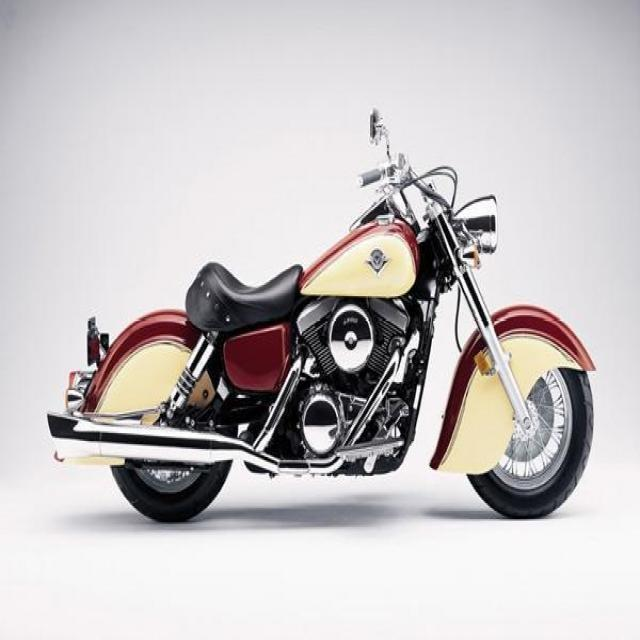Motorcycle: (67, 106, 597, 524)
